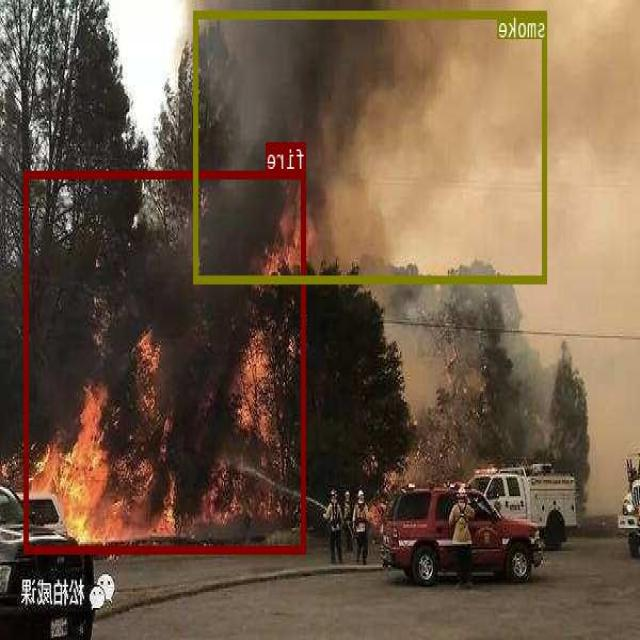fire: (25, 170, 307, 552)
smoke: (195, 10, 547, 281)
